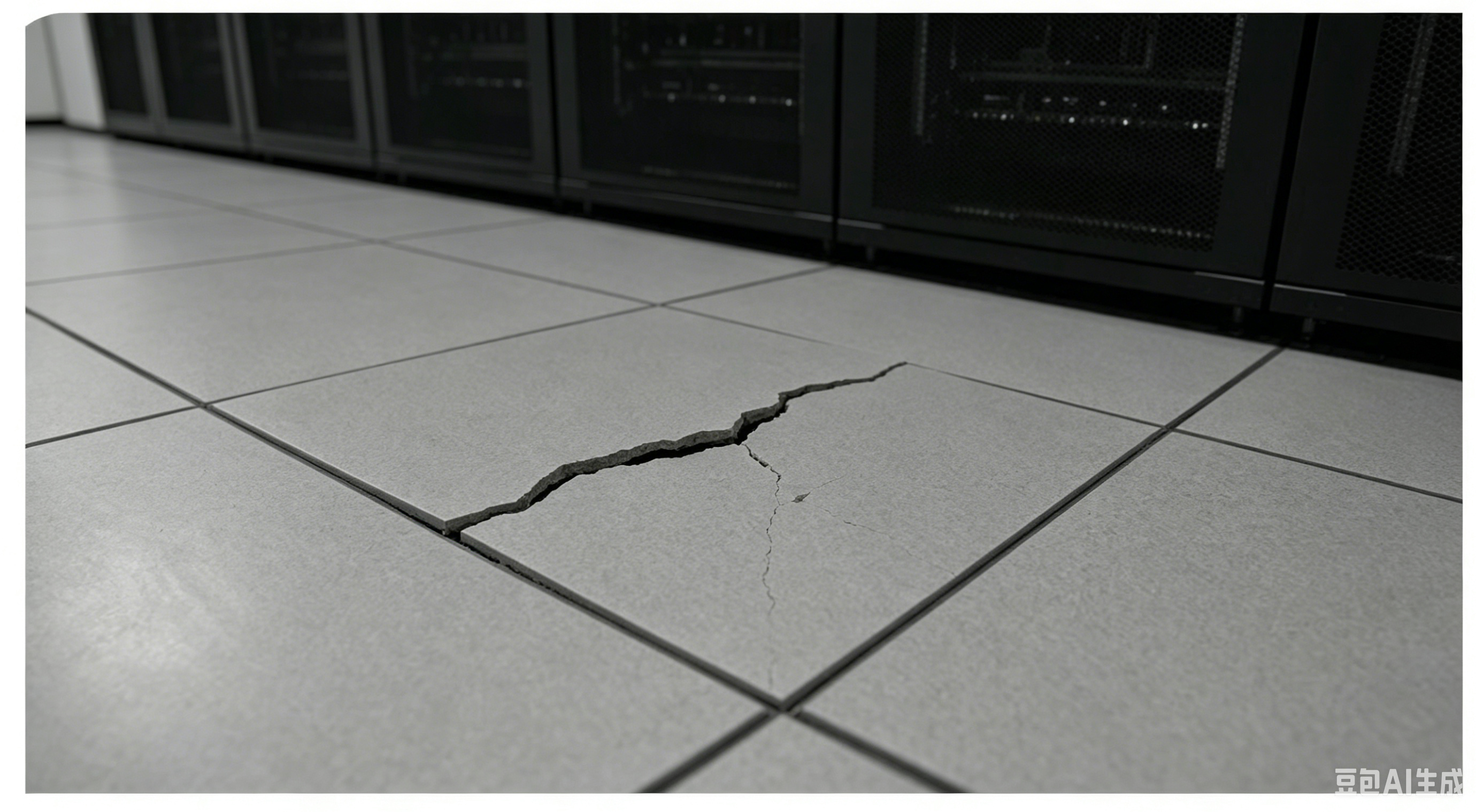floor_defect: (433, 441, 695, 547), (748, 468, 801, 684), (661, 399, 809, 460), (768, 346, 914, 400)
